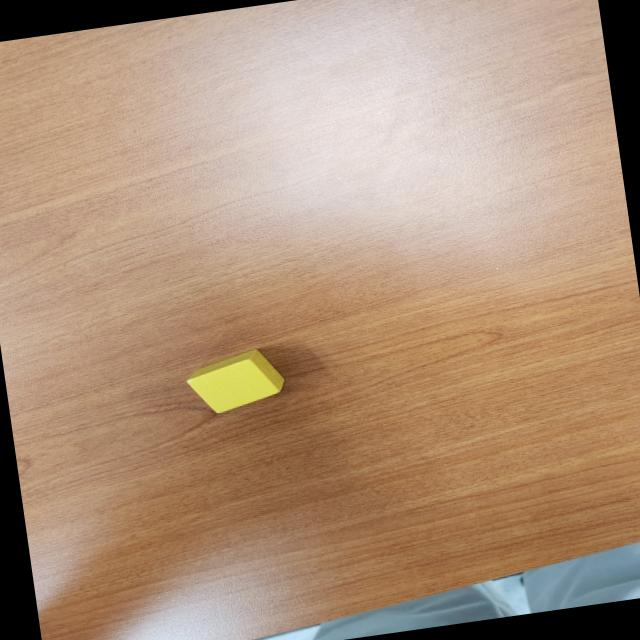yellow: (184, 346, 288, 416)
